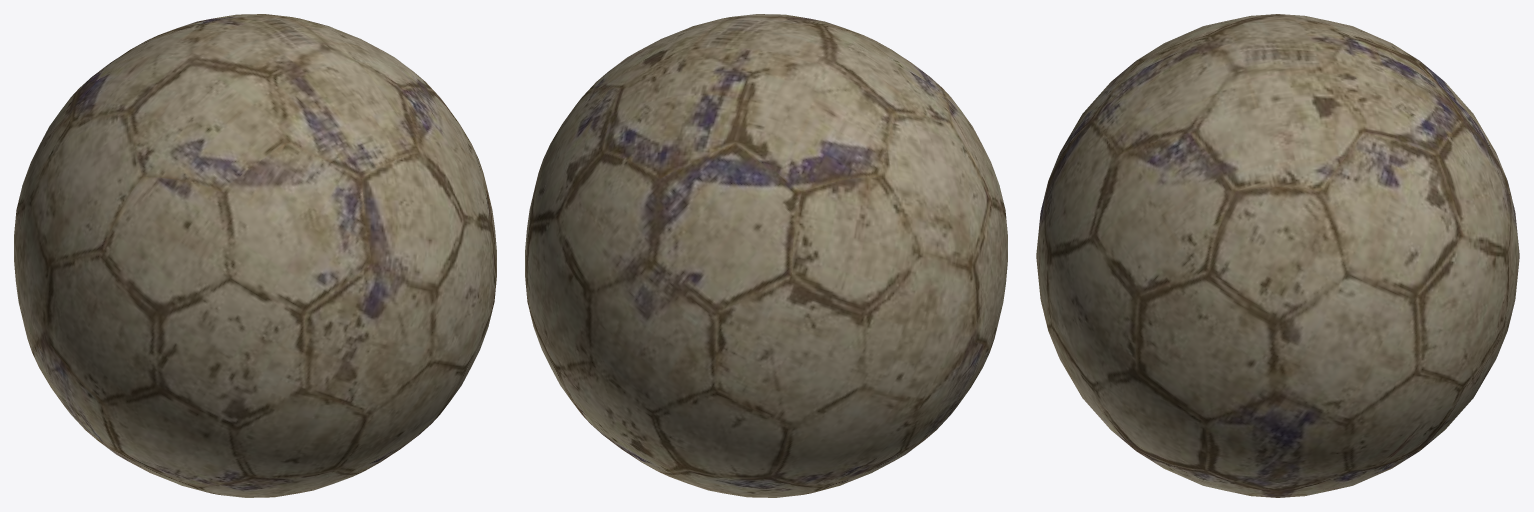
The model's file is ball.glb.
3 renders of one model, left to right at view 1: azimuth 30°, elevation 25°; view 2: azimuth 150°, elevation 25°; view 3: azimuth 270°, elevation 25°, orthographic.
Parts seen in each view (by area): view 1: football_inflated; view 2: football_inflated; view 3: football_inflated.
Part boxes in pixels (x1,y1,x2,y2): football_inflated: [14, 14, 496, 497]; football_inflated: [525, 14, 1007, 497]; football_inflated: [1036, 14, 1519, 497].
Size of the model in its own units: 0.2203 by 0.2219 by 0.2206.
Materials: 1 (1 with a texture image).
